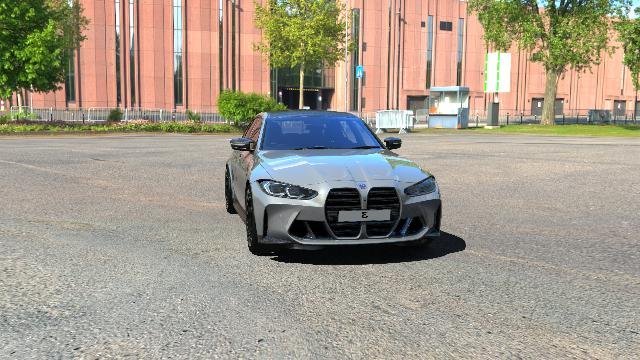License Plate: (338, 209, 389, 225)
